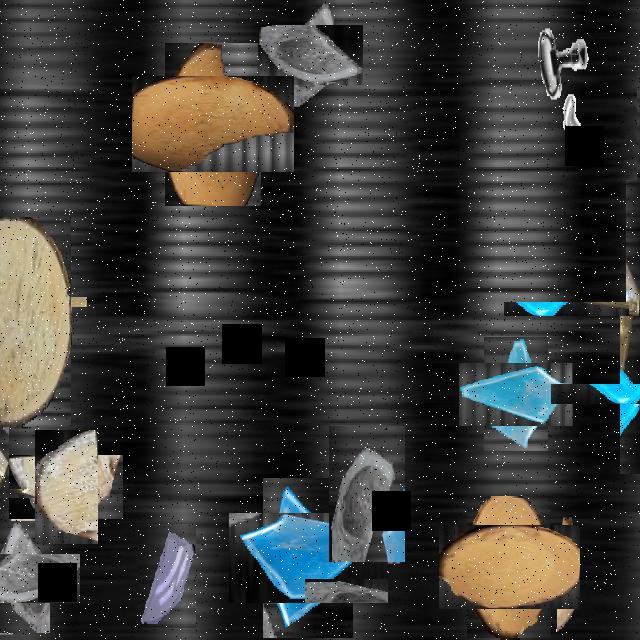glass: (246, 496, 370, 620), (329, 426, 405, 562), (472, 350, 560, 439), (268, 13, 352, 97), (138, 524, 196, 628), (0, 538, 65, 618), (585, 349, 640, 439), (0, 258, 49, 345), (0, 365, 29, 423)
metal: (531, 2, 593, 112), (539, 91, 587, 176), (637, 90, 640, 180)
plastic: (564, 241, 640, 377), (0, 443, 54, 544)
wood: (148, 60, 278, 189), (0, 217, 71, 427), (452, 511, 566, 624), (21, 442, 110, 532), (557, 518, 579, 638)
